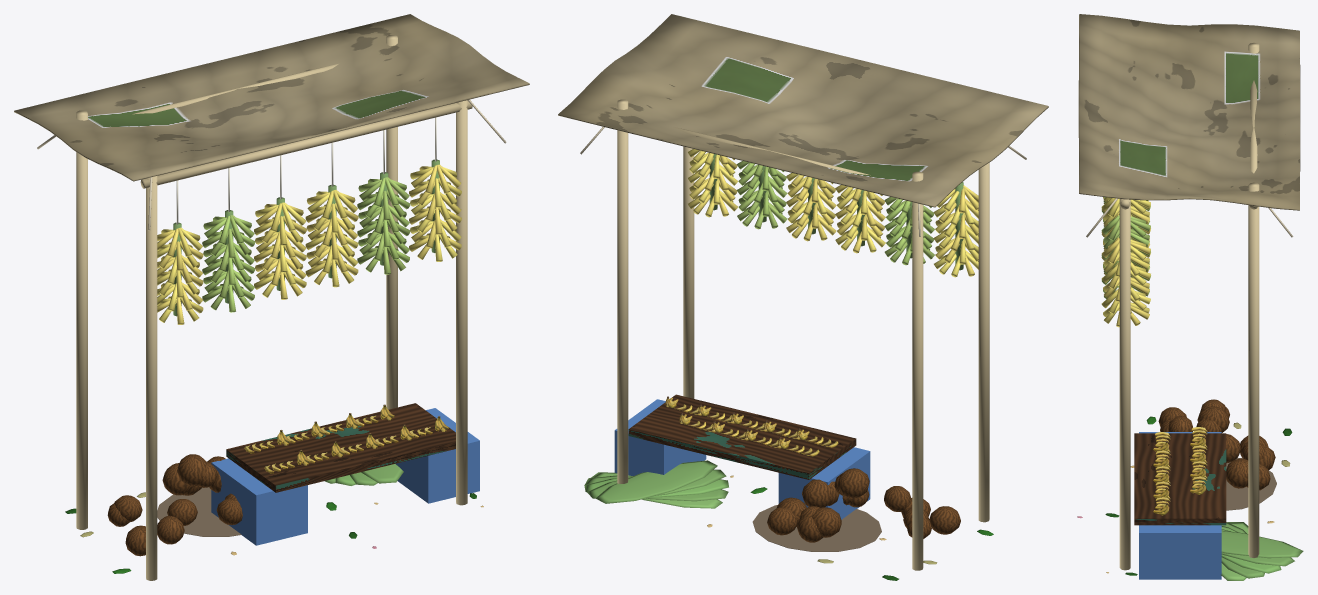
File: market_banana.glb
The picture shows the model from 3 angles, left to right: view 1: azimuth 30°, elevation 25°; view 2: azimuth 150°, elevation 25°; view 3: azimuth 270°, elevation 25°; orthographic projection. The views are drawn at different scales.
Visible parts, largest first — view 1: market_banana; view 2: market_banana; view 3: market_banana.
Boxes of the visible parts, x1,y1,x2,y2 form: market_banana: (14,14,529,580); market_banana: (558,14,1048,580); market_banana: (1077,14,1303,580).
Size of the model in its own units: 2.3 by 2.37 by 1.23.
26 materials, 6 textured.
